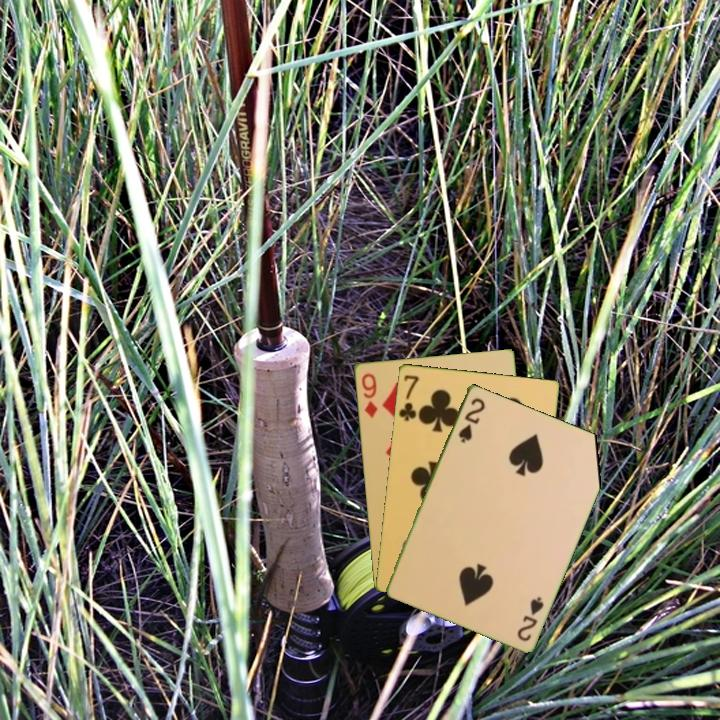2s: (454, 394, 488, 445), (513, 593, 547, 644)
7c: (395, 371, 421, 423)
9d: (358, 369, 380, 420)
